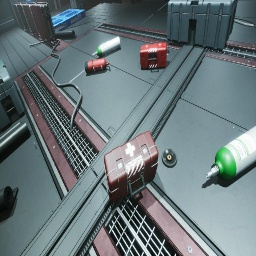0: (206, 126, 256, 180), (92, 36, 121, 58), (51, 17, 52, 18)
FireExtinguisher ]: (85, 58, 110, 74)
FirstAidBox ,: (104, 131, 158, 203), (140, 42, 167, 70)
